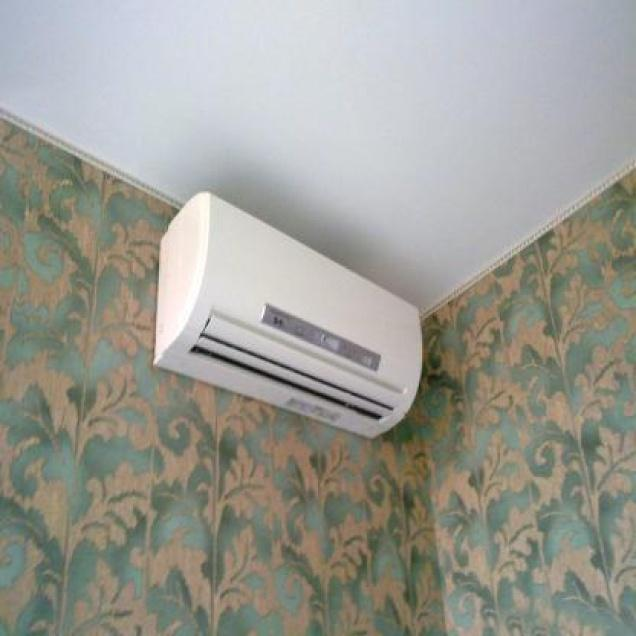AC: (151, 188, 424, 442)
